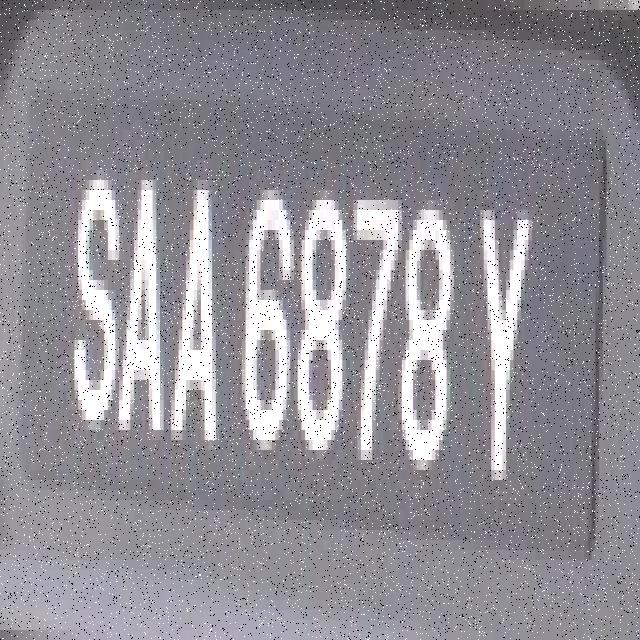licenseplate: (19, 61, 614, 592)
